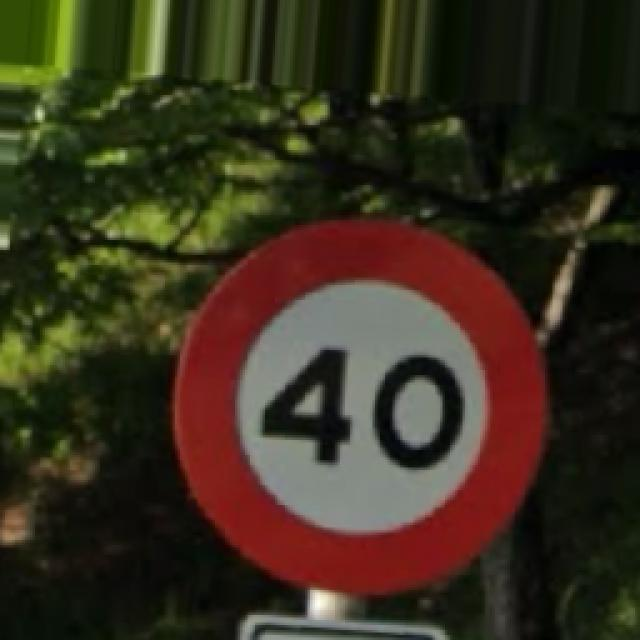Speed Limit -40-: (175, 218, 545, 592)
